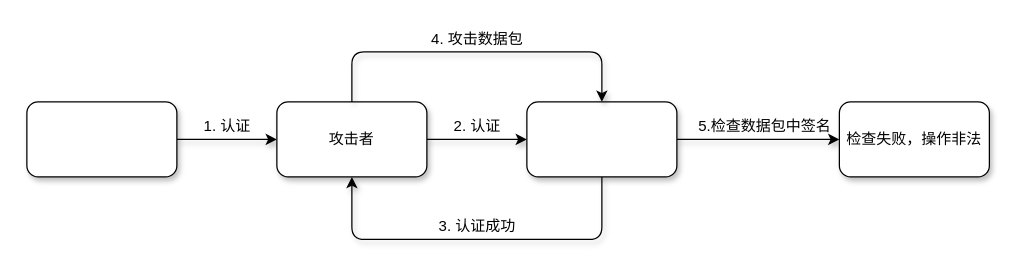
This 1019x280 diagram has some shape labels left out. The centre of each missing label's shape, as x and y in pixels:
"Client" belongs at point (102, 141).
"SMB Server" belongs at point (602, 141).
